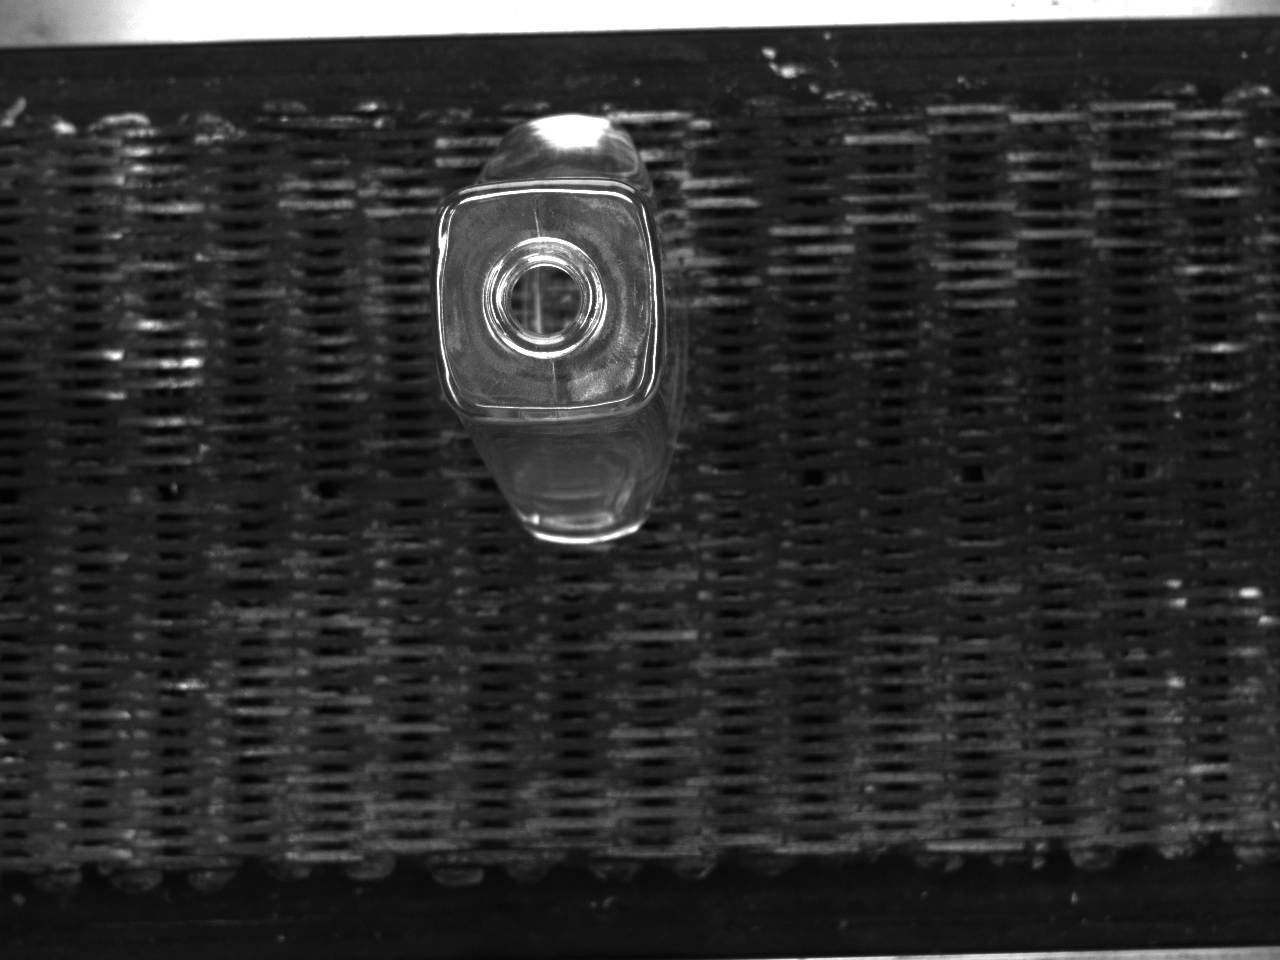bottleneck: (480, 237, 608, 359)
